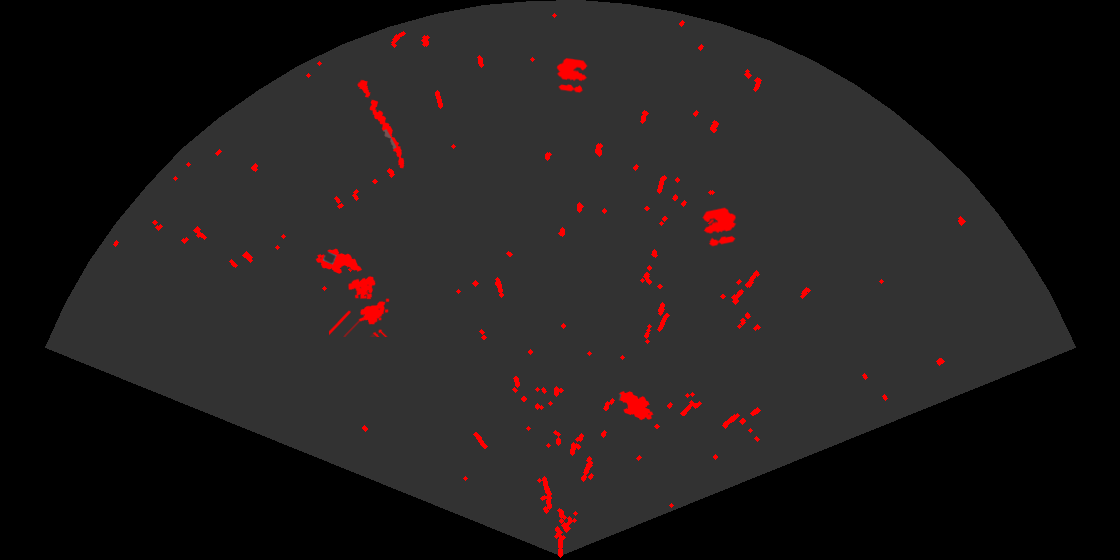AUV: (314, 247, 364, 275), (618, 390, 655, 422)
ball: (701, 206, 738, 248), (555, 56, 589, 95)
cage: (329, 274, 391, 337)
chain: (356, 78, 406, 170)
